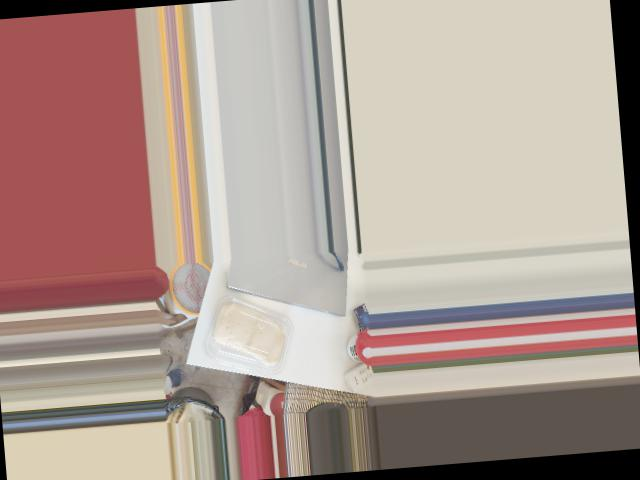cheese: (193, 289, 300, 381)
